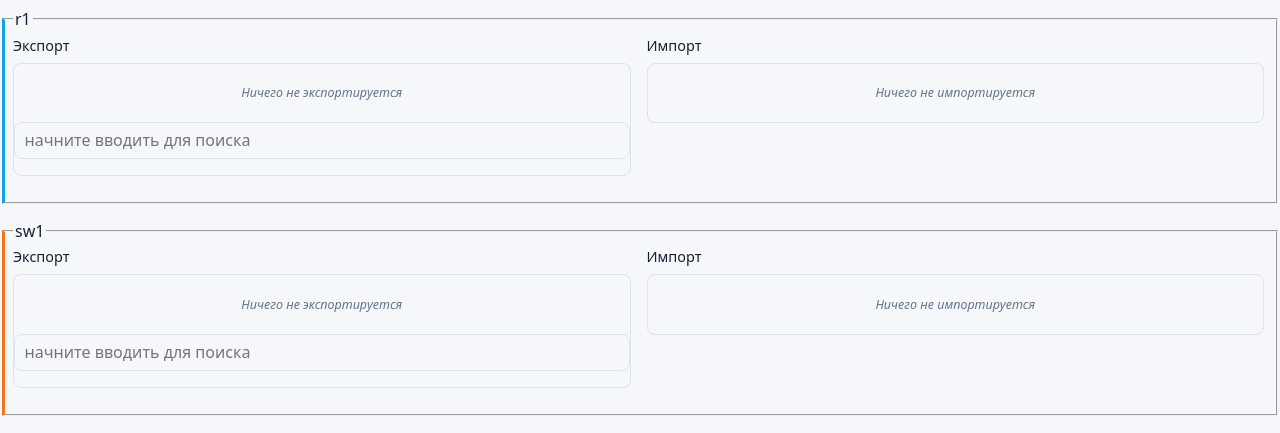
Test: LinkFilterForm › renders network candidates without empty parens and subnets with cidr
Press the mouse on the field with placeholder "начните вводить для поиска" below "r1" at (322, 140), box 14,122 -> 630,159
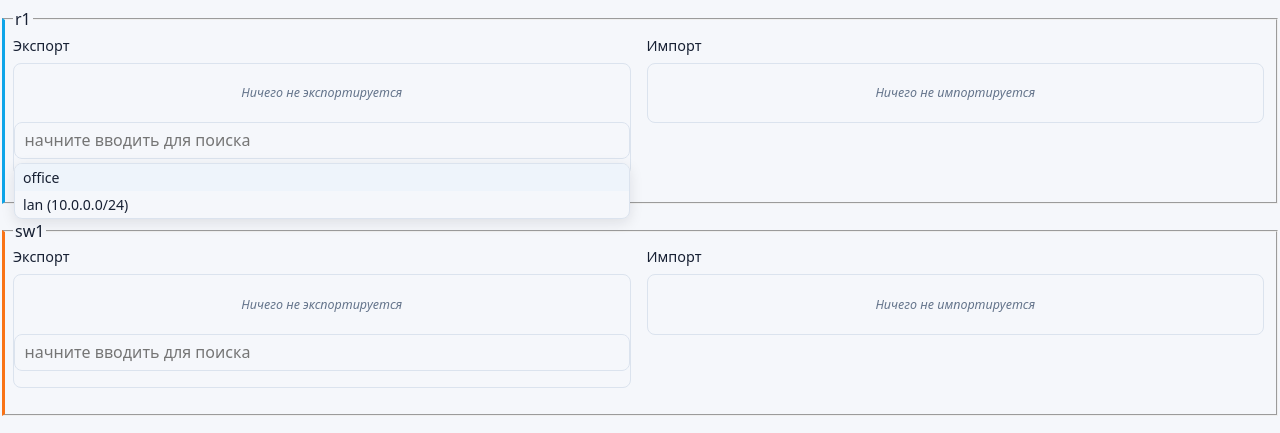
expect the button "office" is shown: met, box 15,164 -> 628,191
expect the button "lan (10.0.0.0/24)" is shown: met, box 15,191 -> 628,218
